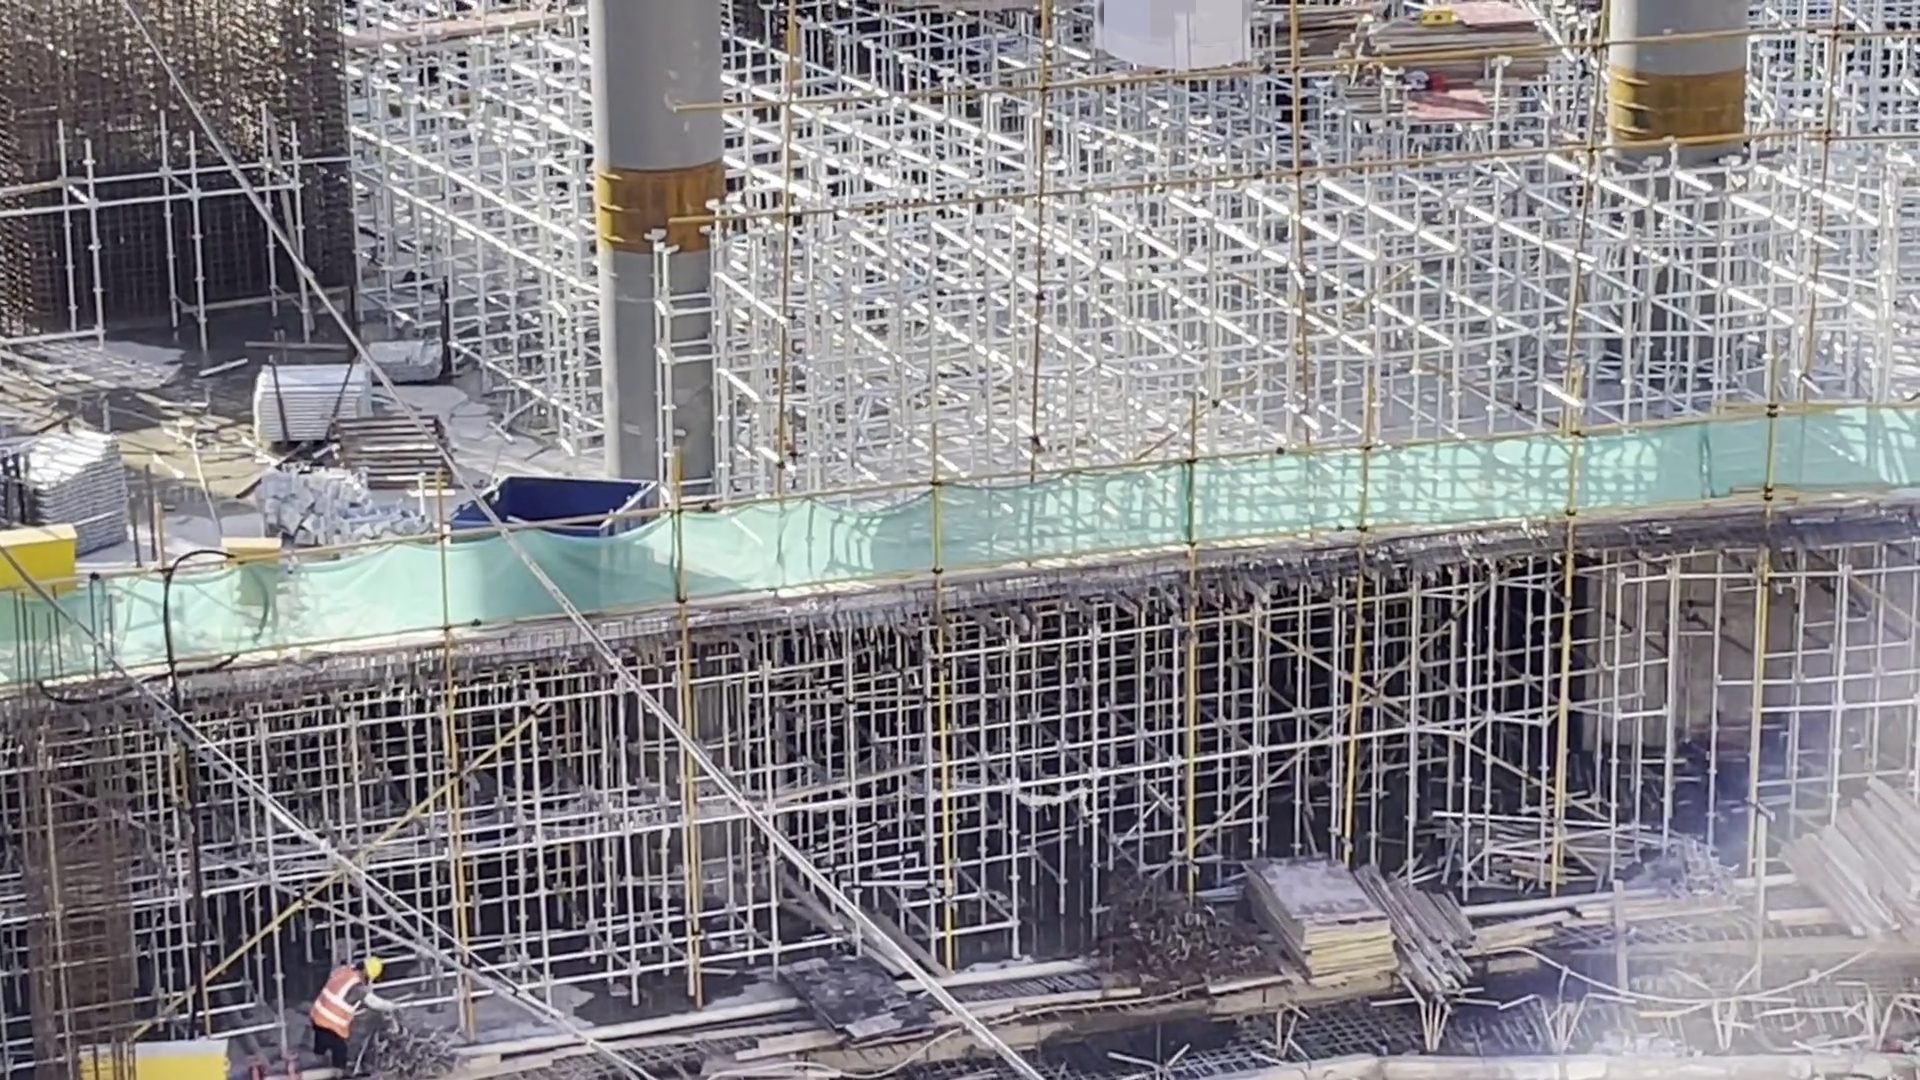board: (1233, 867, 1389, 986), (1386, 1, 1529, 109)
ebox: (63, 1027, 310, 1080), (1, 543, 94, 624), (204, 531, 296, 599)
helmet: (354, 951, 388, 976)
hopper: (484, 482, 643, 591)
person: (314, 956, 376, 1065)
scaffold: (1, 409, 131, 557), (256, 366, 389, 447)
vest: (311, 969, 363, 1041)
